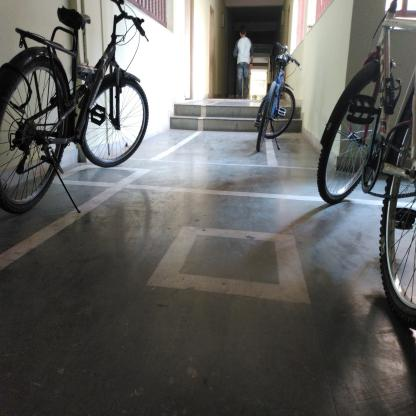stairs: (177, 103, 253, 134)
